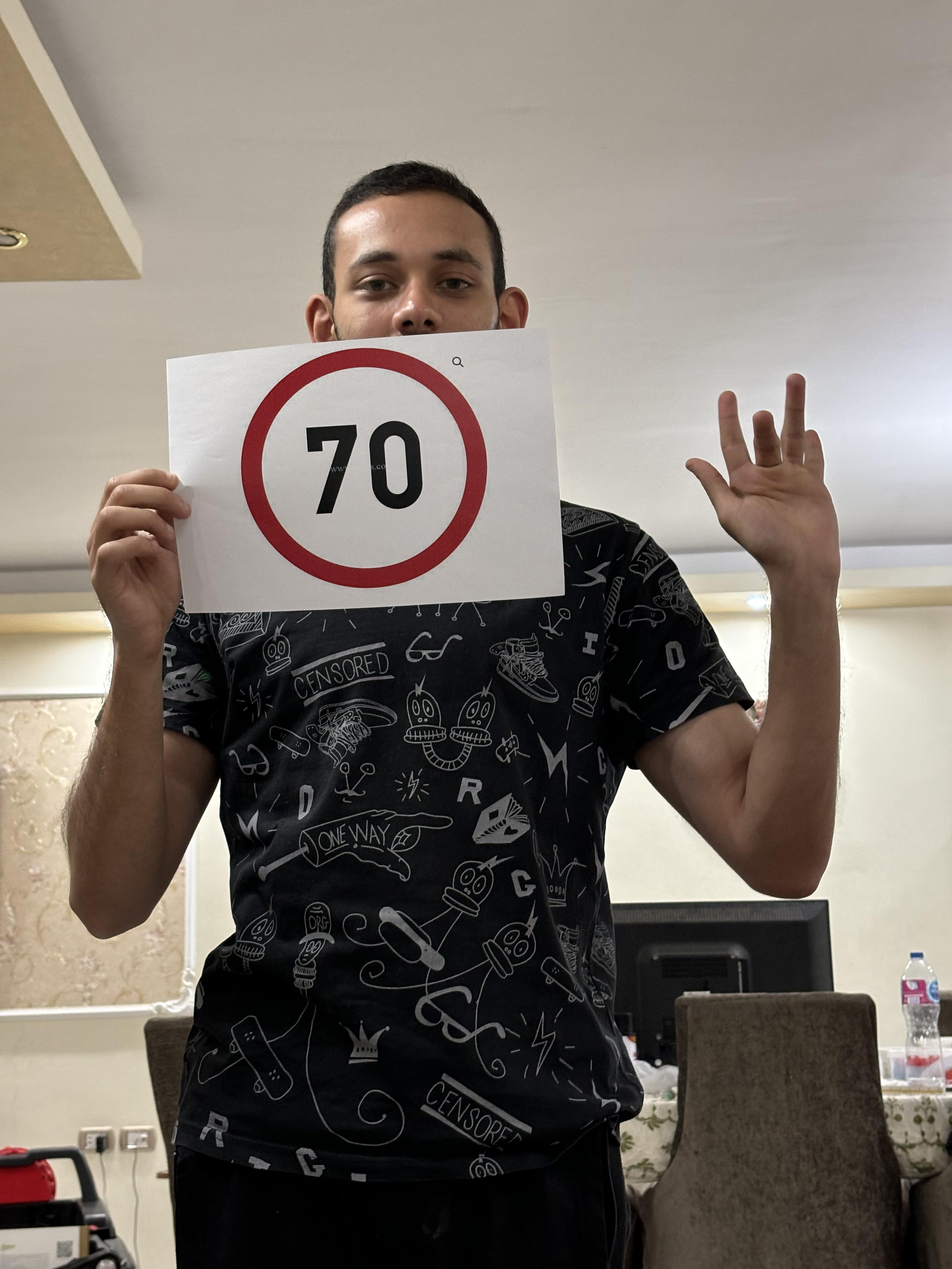70-Speed: (234, 347, 503, 596)
